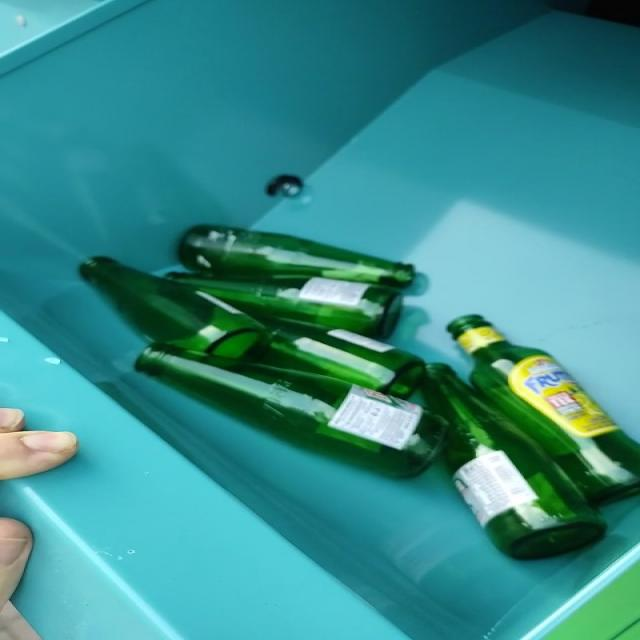glass: (81, 226, 640, 560)
